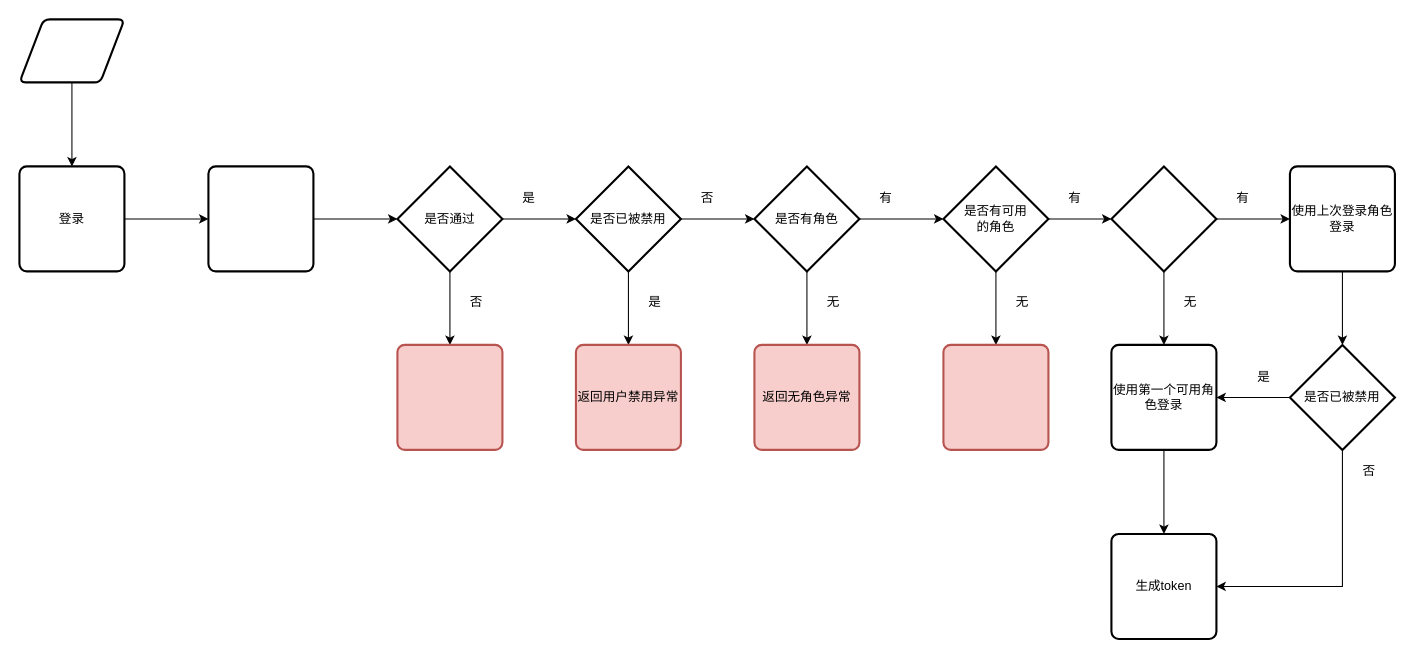
Image size: 1413x657. Some labels were removed from this diagram. The shapes that lost their labels are listed below. From the top down, each one's centre as x and y in pixels, then its label:
(71,50): username password
(260,218): 身份认证
(1163,218): 上次登录角色 是否为空
(449,396): 返回认证失败异常
(995,396): 返回角色禁用异常
